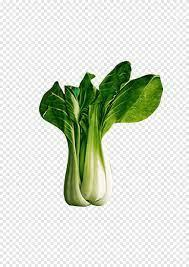Healthy-Pechay: (33, 63, 163, 213)
